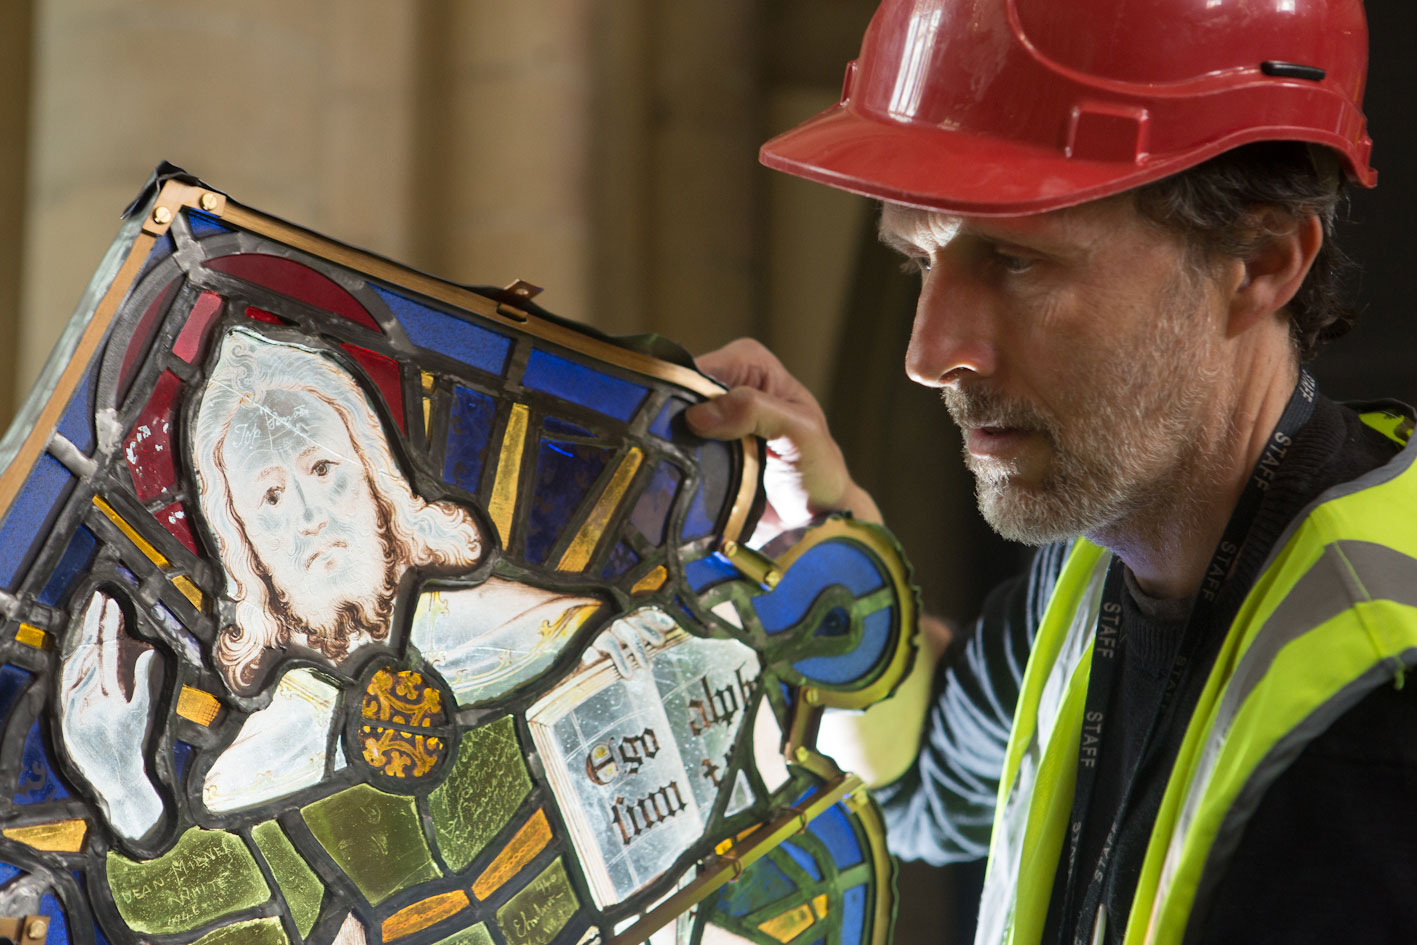Hard Hat: (724, 1, 1378, 221)
High Viz: (995, 481, 1409, 945)
